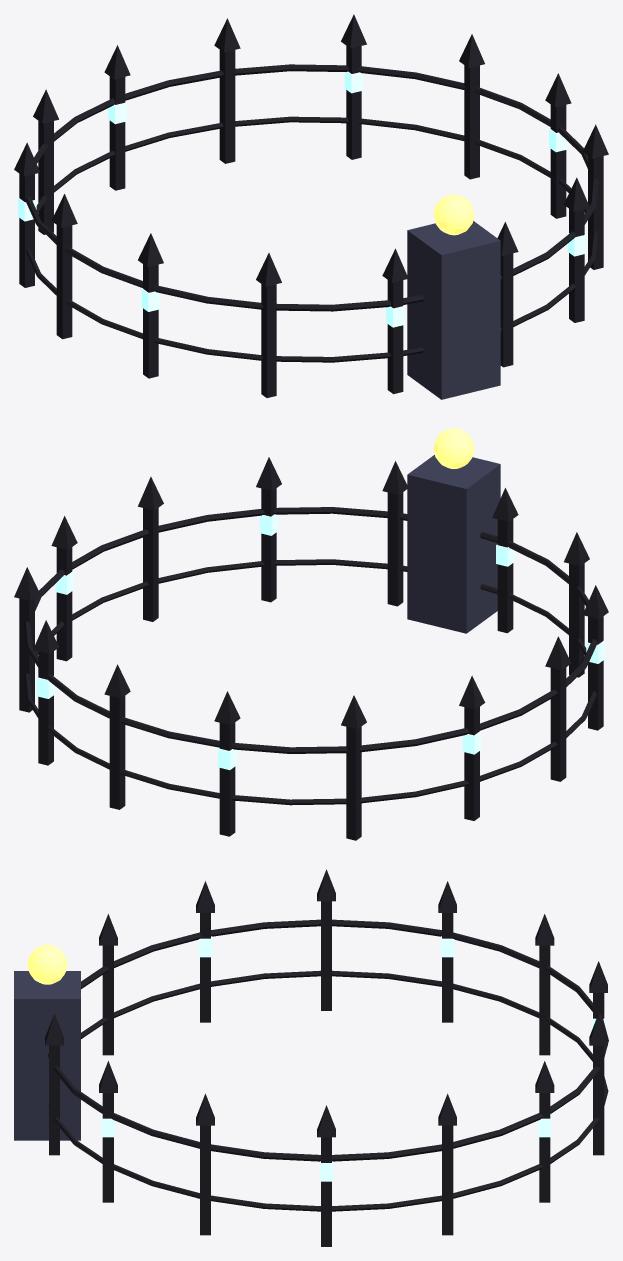
Rendered from sg-spiked-fence.glb.
3 views of the same model, one above another, from view 1: azimuth 30°, elevation 25°; view 2: azimuth 150°, elevation 25°; view 3: azimuth 270°, elevation 25° (orthographic). The views are drawn at different scales.
Visible parts, largest first — view 1: cw_paint, cw_neon, cw_glow; view 2: cw_paint, cw_neon, cw_glow; view 3: cw_paint, cw_neon, cw_glow.
Boxes of the visible parts, <box> form: cw_paint: <box>14,14,608,399</box>; cw_neon: <box>18,71,586,327</box>; cw_glow: <box>433,194,474,235</box>; cw_paint: <box>14,455,608,840</box>; cw_neon: <box>36,514,604,770</box>; cw_glow: <box>433,428,474,468</box>; cw_paint: <box>14,869,608,1246</box>; cw_neon: <box>101,936,605,1181</box>; cw_glow: <box>27,944,67,984</box>.
Bounding box in the file's own units: 5.17 × 1.78 × 5.33.
